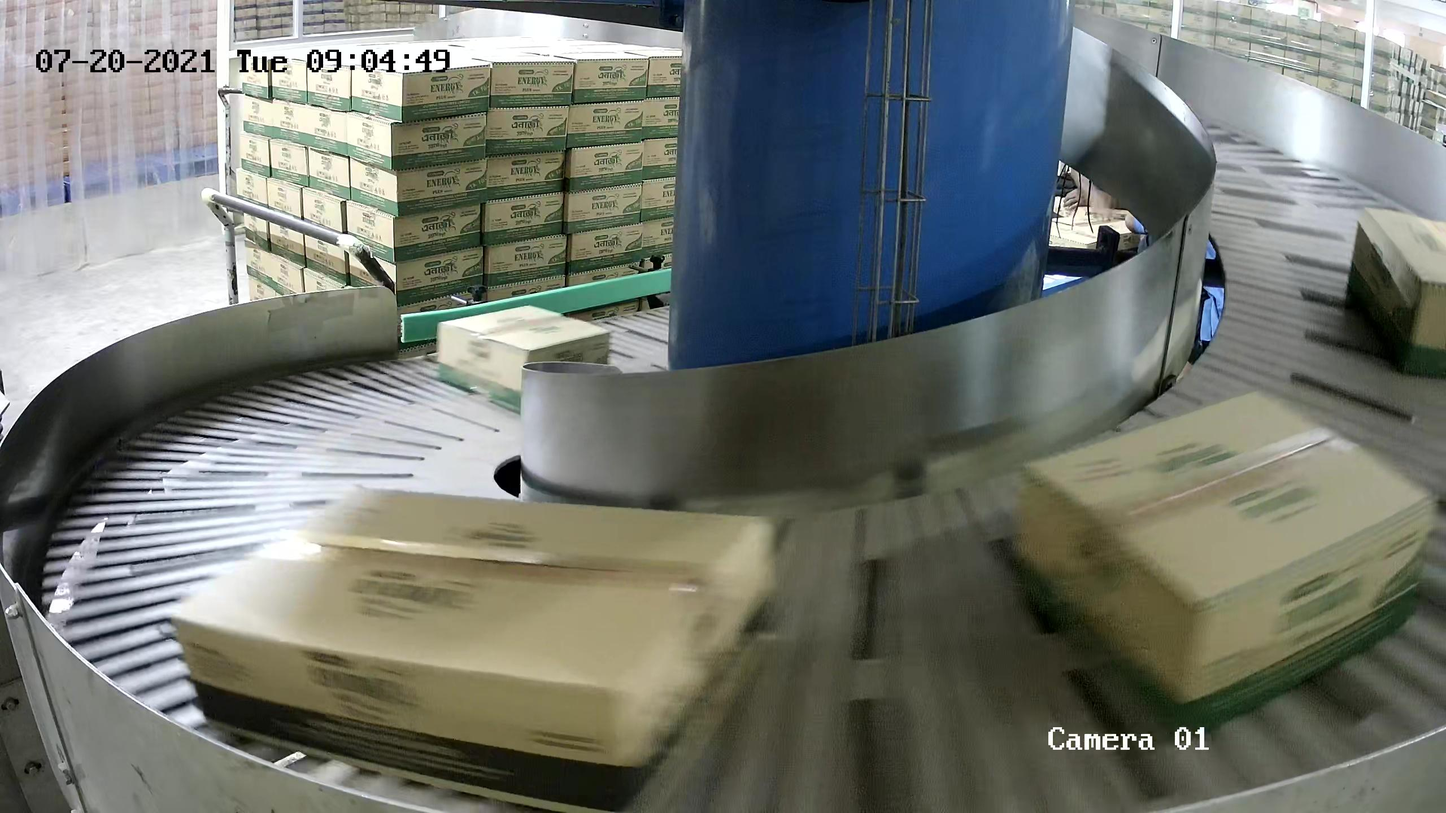Box: (163, 480, 780, 813), (1010, 386, 1440, 736), (436, 304, 613, 412), (1344, 206, 1446, 376)
